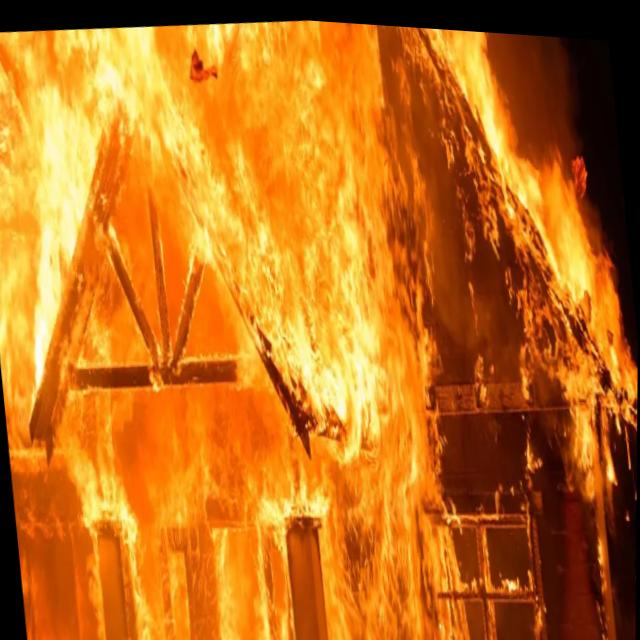Fire: (0, 0, 463, 640), (398, 75, 640, 640), (436, 23, 640, 485)
